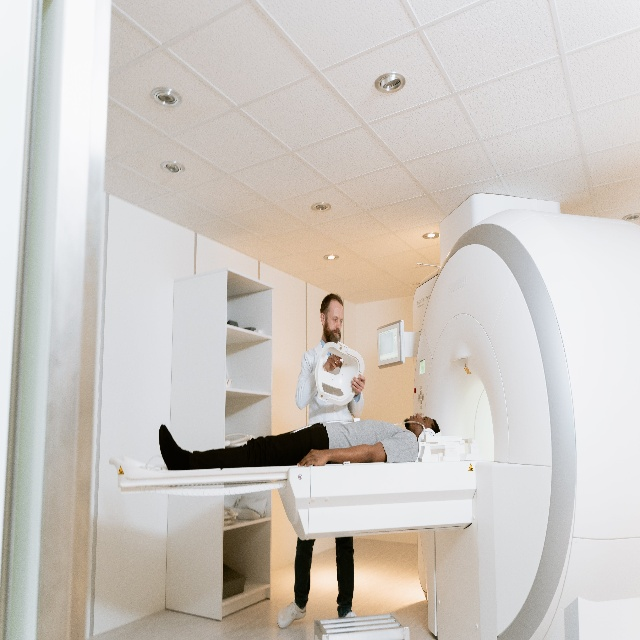Sin_guantes: (297, 445, 329, 468), (350, 373, 366, 397), (325, 352, 342, 373)
